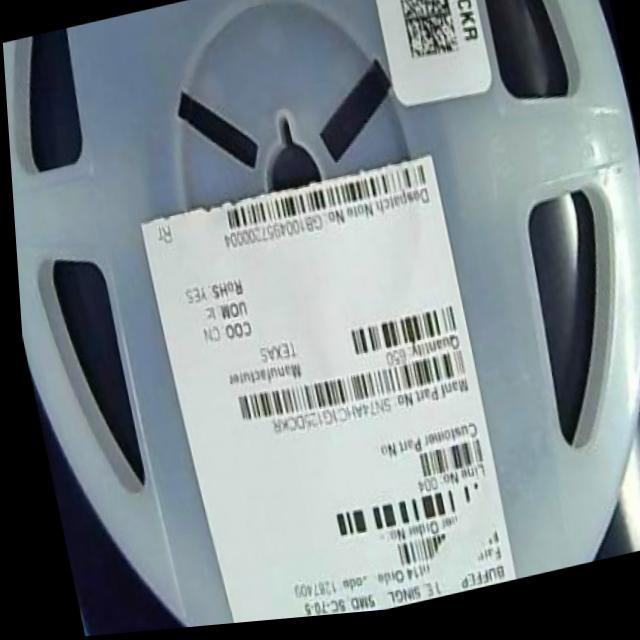datamatrix: (394, 1, 461, 73)
